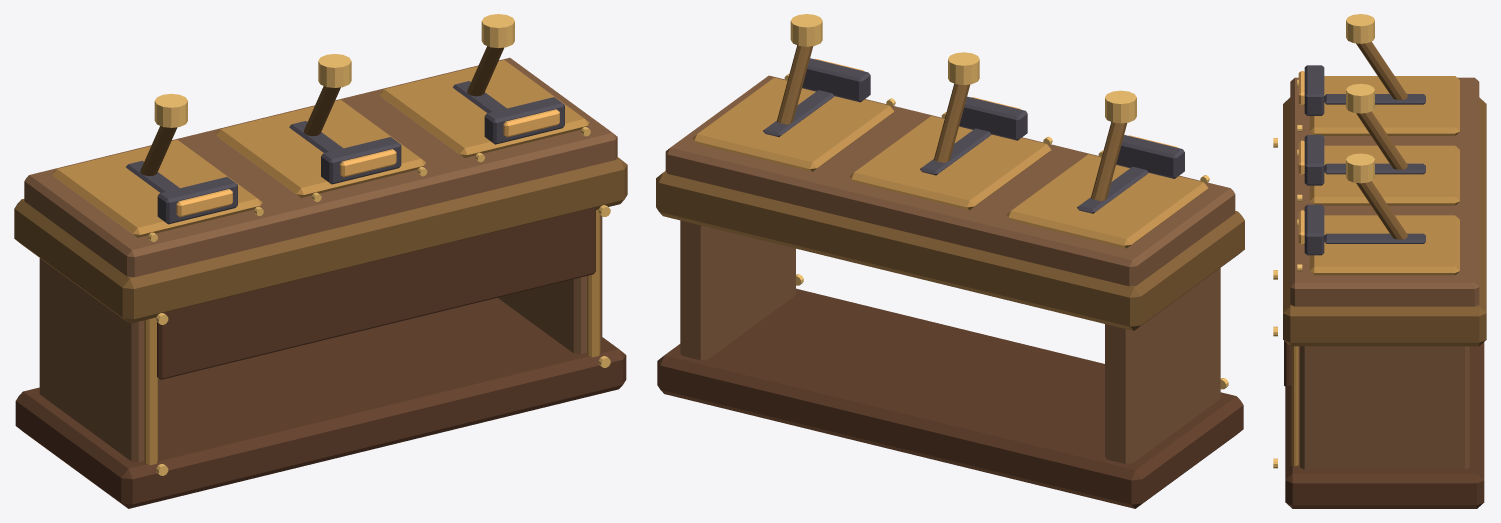
File: SM_Stage3_EditConsole.fbx
The picture shows the model from 3 angles, left to right: view 1: azimuth 30°, elevation 25°; view 2: azimuth 150°, elevation 25°; view 3: azimuth 270°, elevation 25°; orthographic projection. The views are drawn at different scales.
Visible parts, largest first — view 1: SM_Stage3_EditConsole; view 2: SM_Stage3_EditConsole; view 3: SM_Stage3_EditConsole.
Part boxes in pixels (bbox=[...]): SM_Stage3_EditConsole: bbox=[14, 14, 627, 508]; SM_Stage3_EditConsole: bbox=[656, 14, 1244, 508]; SM_Stage3_EditConsole: bbox=[1273, 14, 1486, 508].
Size of the model in its own units: 210 by 88 by 143.
